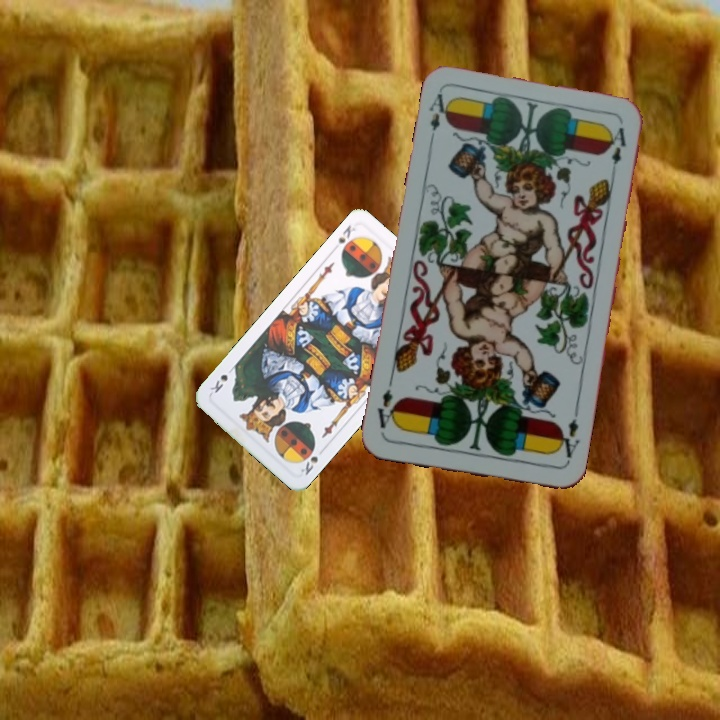EA: (553, 407, 582, 466), (425, 89, 454, 147)
SK: (328, 221, 358, 254), (296, 452, 321, 478)
